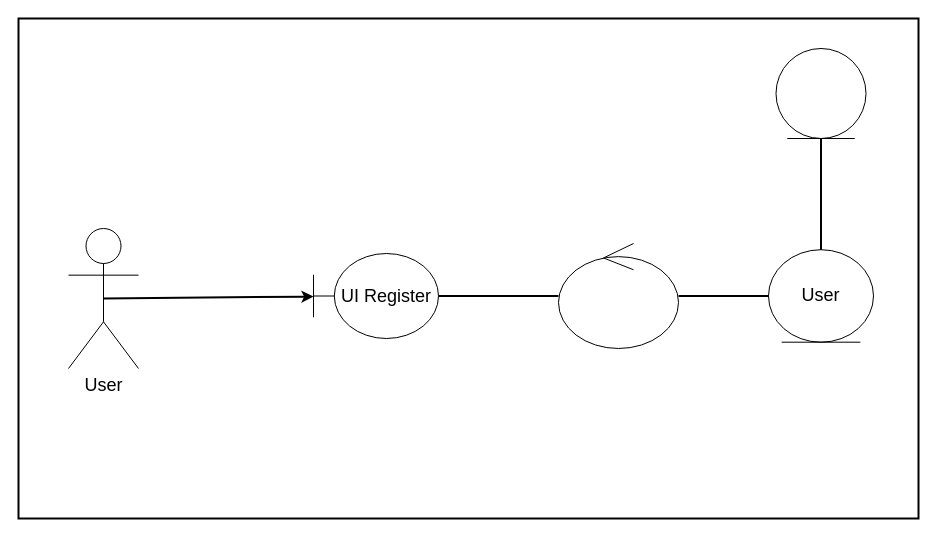
The diagram is 936 pixels wide and 536 high, and some of its shapes have lost their labels. The shapes that lost their labels are listed below. From the top down, each one's centre as x and y in pixels, then its label:
the point at 820,93: Person
the point at 618,295: Registration Control
